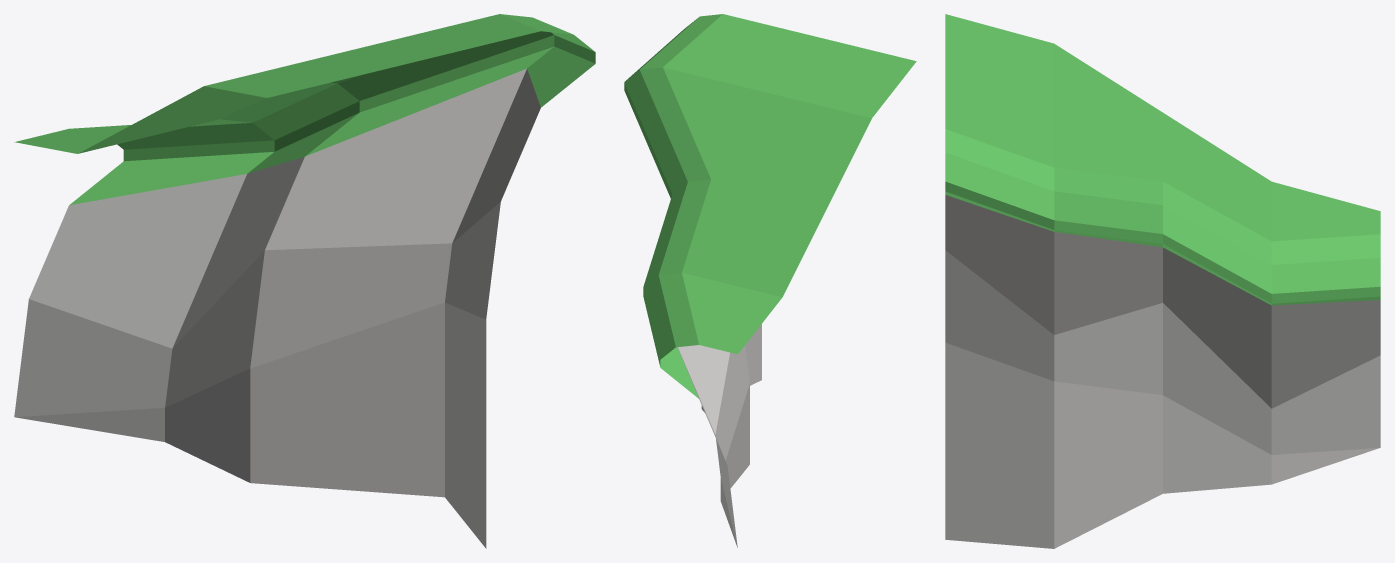
Rendered from Cliff_Terrain_Waterfall_Top.glb.
3 renders of one model, left to right at view 1: azimuth 30°, elevation 25°; view 2: azimuth 150°, elevation 25°; view 3: azimuth 270°, elevation 25°, orthographic. The views are drawn at different scales.
Parts seen in each view (by area): view 1: Cliff_Terrain_Waterfall_Top; view 2: Cliff_Terrain_Waterfall_Top; view 3: Cliff_Terrain_Waterfall_Top.
Part boxes in pixels (x1,y1,x2,y2): Cliff_Terrain_Waterfall_Top: (14, 14, 595, 548); Cliff_Terrain_Waterfall_Top: (624, 14, 916, 547); Cliff_Terrain_Waterfall_Top: (945, 14, 1380, 548).
Size of the model in its own units: 0.792 by 1.09 by 0.99.
